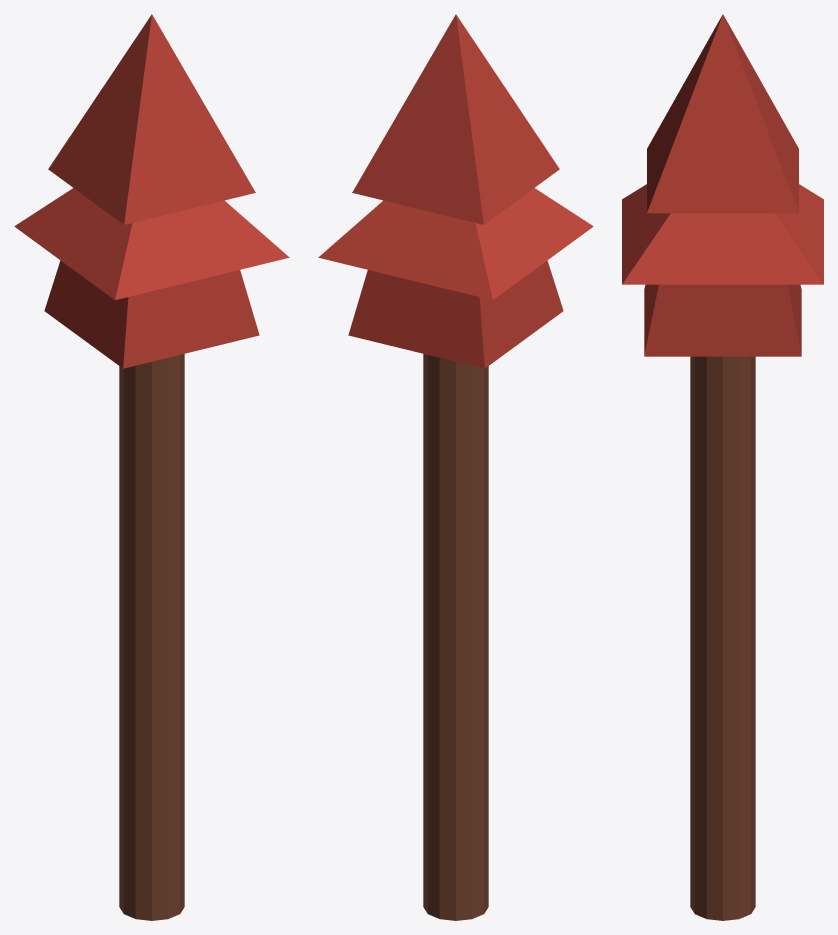
The model's file is Tree_15_summer_red_vc.fbx.
The picture shows the model from 3 angles, left to right: view 1: azimuth 30°, elevation 25°; view 2: azimuth 150°, elevation 25°; view 3: azimuth 270°, elevation 25°; orthographic projection.
Parts seen in each view (by area): view 1: Tree_15_summer_red_vc; view 2: Tree_15_summer_red_vc; view 3: Tree_15_summer_red_vc.
Boxes of the visible parts, x1=… form: Tree_15_summer_red_vc: x1=14, y1=14, x2=289, y2=920; Tree_15_summer_red_vc: x1=318, y1=14, x2=593, y2=920; Tree_15_summer_red_vc: x1=622, y1=14, x2=823, y2=920.
Bounding box in the file's own units: 68.73 × 336 × 68.73.
